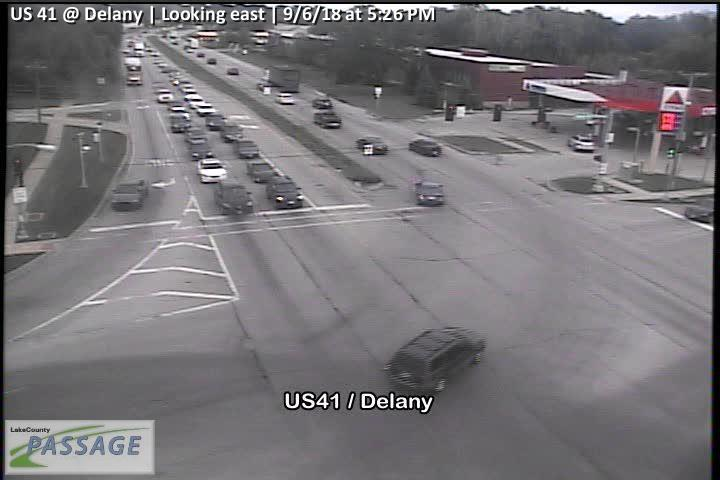SUV: (382, 324, 488, 395), (265, 176, 303, 209), (684, 195, 714, 223), (409, 137, 443, 158), (566, 131, 598, 153), (309, 95, 334, 109), (157, 86, 175, 103), (186, 94, 205, 108), (275, 93, 297, 105), (205, 56, 218, 64)
Sedan: (213, 180, 255, 216), (108, 178, 150, 211), (414, 177, 447, 206), (244, 157, 277, 183), (197, 160, 229, 183), (356, 135, 389, 155), (232, 138, 262, 159), (220, 121, 246, 143), (183, 128, 209, 143), (171, 117, 192, 135), (207, 113, 226, 131), (191, 143, 213, 158), (196, 103, 217, 116), (180, 81, 197, 93), (170, 100, 187, 111), (226, 66, 240, 75)
Truck: (125, 58, 145, 87), (313, 111, 342, 130)
